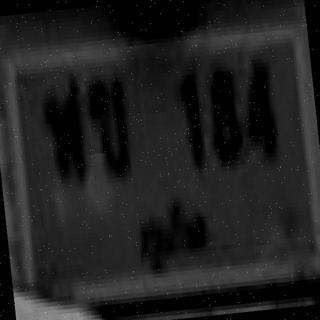A02: (83, 62, 141, 195)
A31: (32, 69, 98, 196)
N01: (172, 60, 215, 184)
N04: (239, 52, 286, 174)
N08: (205, 57, 249, 182)
P48: (131, 190, 219, 284)
